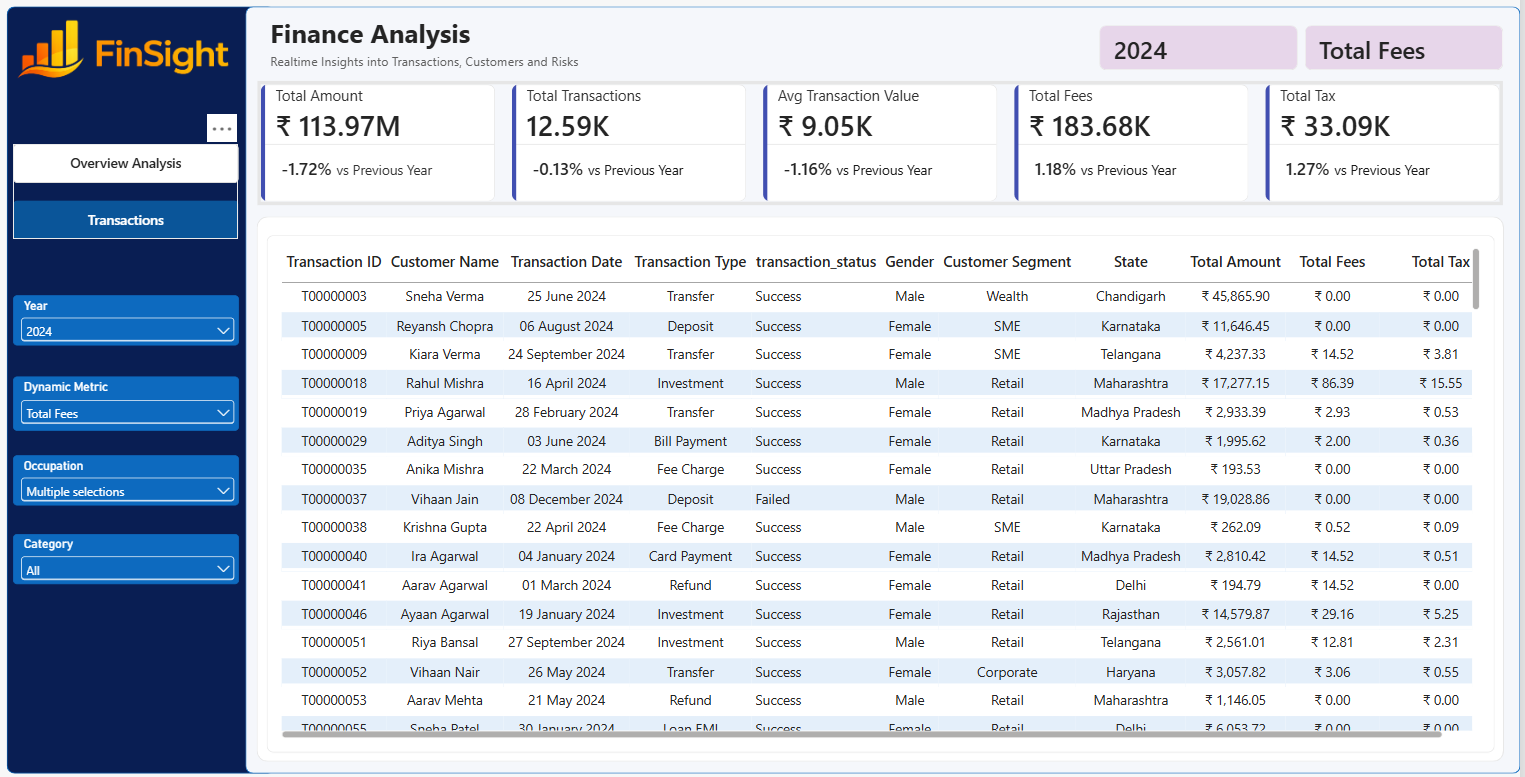

The page's visual inventory and layout, read from the dashboard file:
{"tool":"powerbi","page":{"name":"Transactions","canvas":[1800,950],"ordinal":1},"visuals":[{"type":"shape","box":[16.4,26.2,317.2,904.3],"z":0},{"type":"shape","box":[297.6,26.2,1502.7,904.3],"z":1000},{"type":"image","box":[16.4,26.2,281.3,101.4],"z":2000},{"type":"cardVisual","fields":{"Data":["Finance_transaction.Dashboard Title"]},"box":[310.7,26.2,421.9,86.7],"z":3000},{"type":"cardVisual","fields":{"Data":["Finance_transaction.Total Amount","Finance_transaction.Total Transactions","Finance_transaction.Avg Transaction Value","Finance_transaction.Total Fees","Finance_transaction.Total Tax"]},"box":[310.7,112.8,1470,148.8],"z":4000},{"type":"shape","box":[310.7,274.7,1470,642.6],"z":5000},{"type":"cardVisual","fields":{"Data":["Finance_transaction.Selected Year","Finance_transaction.Selected Dynamic Measure"]},"box":[1303.2,49.1,477.5,54],"z":6000},{"type":"tableEx","fields":{"Values":["Finance_transaction.transaction_id","customers1.customer_name","Finance_transaction.transaction_date","Finance_transaction.transaction_type","Finance_transaction.transaction_status","customers1.gender","customers1.customer_segment","customers1.state","Finance_transaction.Total Amount","Finance_transaction.Total Fees","Finance_transaction.Total Tax"]},"box":[322.1,296,1447.1,609.9],"z":7000},{"type":"slicer","fields":{"Values":["Calender Table.Year"]},"box":[22.9,366.3,266.5,58.9],"z":8001},{"type":"slicer","fields":{"Values":["Dynamic Metric.Dynamic Metric"]},"box":[22.9,462.8,266.5,63.8],"z":8002},{"type":"slicer","fields":{"Values":["customers1.occupation"]},"box":[22.9,556,266.5,58.9],"z":8003},{"type":"slicer","fields":{"Values":["Finance_transaction.merchant_category"]},"box":[22.9,647.5,266.5,58.9],"z":8004},{"type":"pageNavigator","box":[22.9,188,266.5,112.8],"z":8005}]}

Visuals, with their boxes on the page's 1800x950 design canvas (x1, y1, x2, y2). These are canvas units, not pixel positions in the 1525x777 screenshot, which may show the page scaled, cropped or inside an application window:
shape: {"left": 16, "top": 26, "right": 334, "bottom": 930}
shape: {"left": 298, "top": 26, "right": 1800, "bottom": 930}
image: {"left": 16, "top": 26, "right": 298, "bottom": 128}
cardVisual - Finance_transaction.Dashboard Title: {"left": 311, "top": 26, "right": 733, "bottom": 113}
cardVisual - Finance_transaction.Total Amount x Finance_transaction.Total Transactions: {"left": 311, "top": 113, "right": 1781, "bottom": 262}
shape: {"left": 311, "top": 275, "right": 1781, "bottom": 917}
cardVisual - Finance_transaction.Selected Year x Finance_transaction.Selected Dynamic Measure: {"left": 1303, "top": 49, "right": 1781, "bottom": 103}
tableEx - Finance_transaction.transaction_id x customers1.customer_name: {"left": 322, "top": 296, "right": 1769, "bottom": 906}
slicer - Calender Table.Year: {"left": 23, "top": 366, "right": 289, "bottom": 425}
slicer - Dynamic Metric.Dynamic Metric: {"left": 23, "top": 463, "right": 289, "bottom": 527}
slicer - customers1.occupation: {"left": 23, "top": 556, "right": 289, "bottom": 615}
slicer - Finance_transaction.merchant_category: {"left": 23, "top": 648, "right": 289, "bottom": 706}
pageNavigator: {"left": 23, "top": 188, "right": 289, "bottom": 301}
